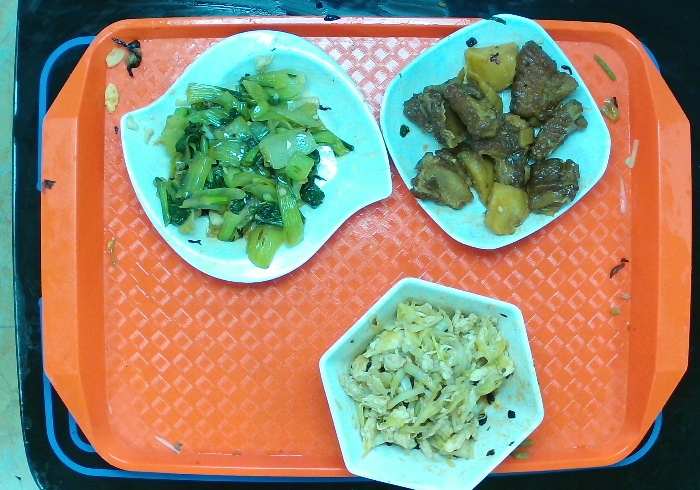RJxy-Liu_Jiao_Wan: (317, 277, 542, 489)
RJxy-Shuang_Jiao_Pan: (118, 28, 396, 288)
RJxy-Si_Fang_Wan: (375, 9, 612, 254)
